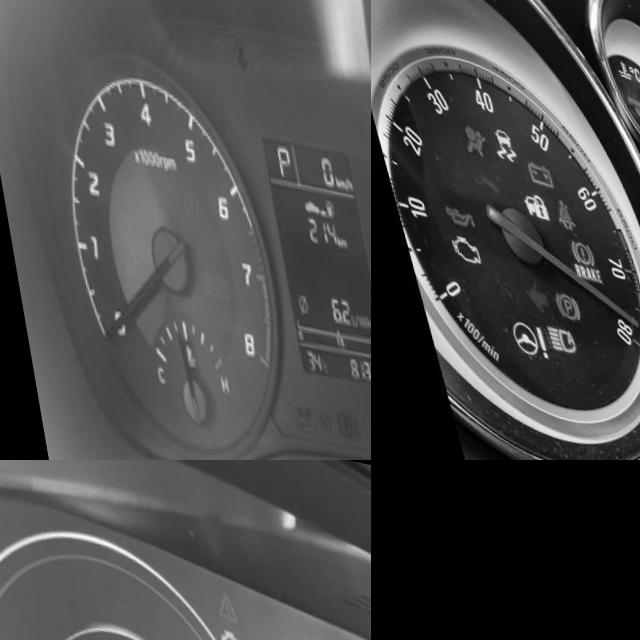Electronic Power Steering: (495, 310, 534, 354)
Seat Belt: (543, 188, 565, 224)
